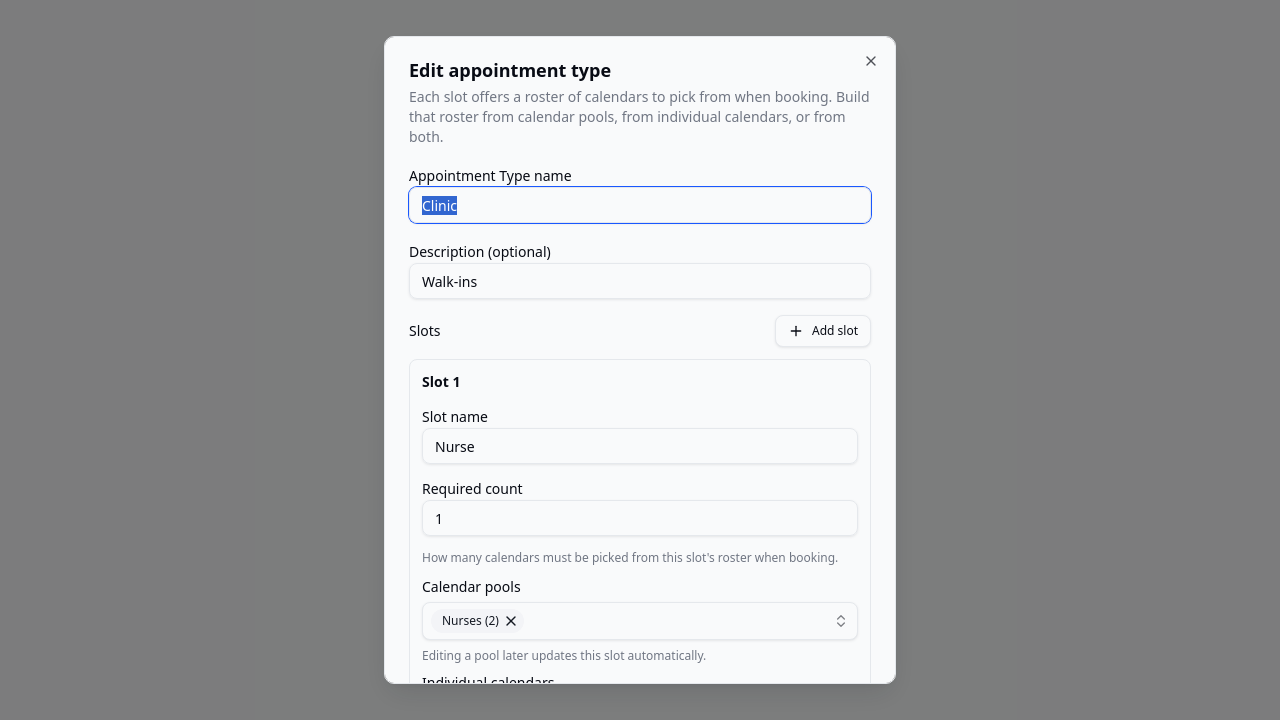
Test case: AppointmentTypeFormDialog (edit mode) › warns that retyping a slot name removes the saved slot
Check: the element with test id "slot-editor-0" is shown, box [409,359,871,684]
Replace the text in the field showing "Nurse" with "Senior nurse" at (640, 446), box [422,428,858,464]
(page scrolled)
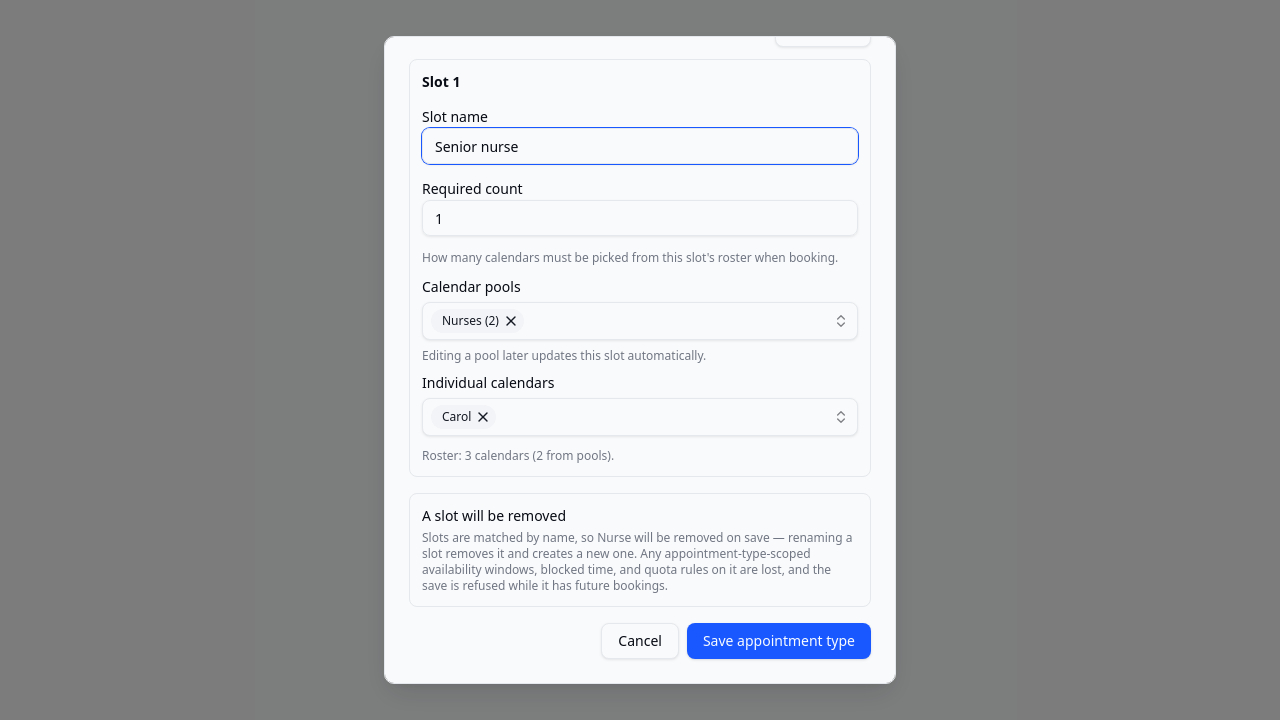
Check: the element with test id "dropped-slots-warning" shows "Nurse", box [597,529,631,546]
Check: the element with test id "dropped-slots-warning" shows "removed on save", box [422,529,852,578]
